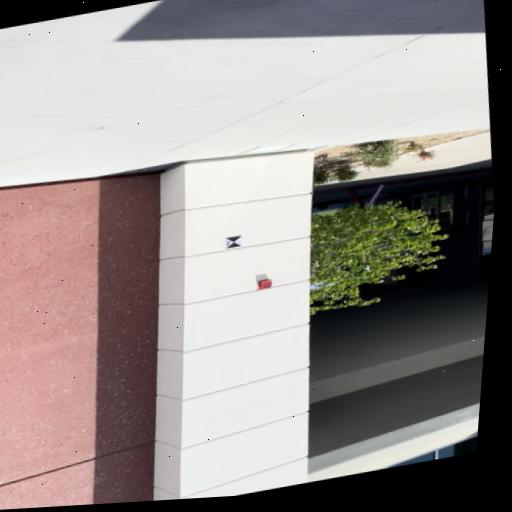target2: (223, 235, 242, 249)
